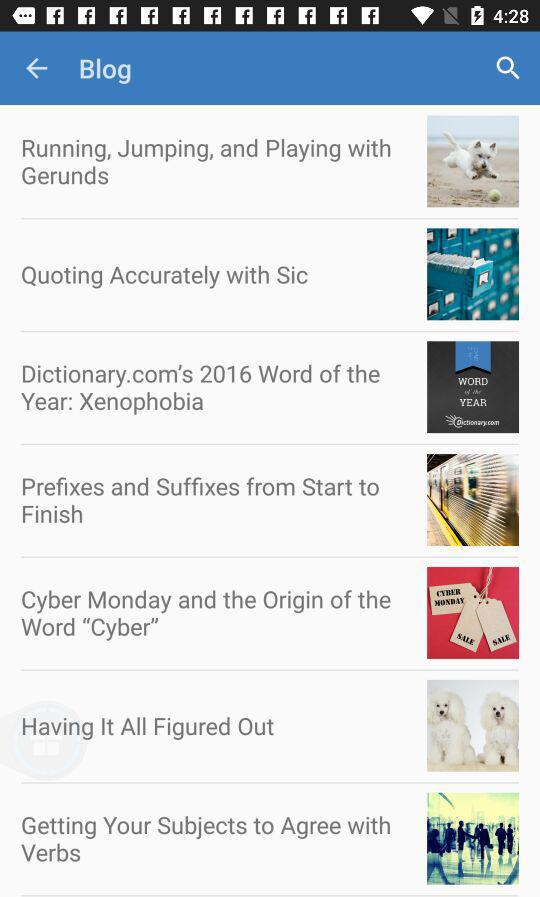Icon: (495, 57, 520, 81), (25, 58, 49, 81)
Image: (427, 792, 520, 885), (426, 680, 519, 773), (426, 341, 519, 434), (427, 228, 520, 321), (427, 567, 519, 660), (427, 454, 519, 546), (427, 117, 519, 209)
Text: (22, 589, 392, 642), (21, 364, 381, 416), (22, 815, 391, 862), (23, 139, 391, 186), (23, 476, 380, 524), (23, 266, 309, 290), (23, 716, 275, 741), (80, 58, 132, 86)
Toolbar: (1, 34, 540, 106)
UpperTaskBar: (1, 1, 540, 33)
